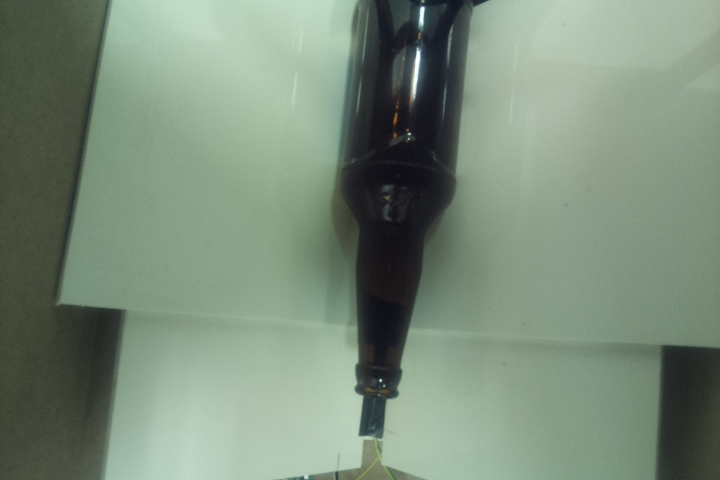makju: (334, 1, 479, 398)
